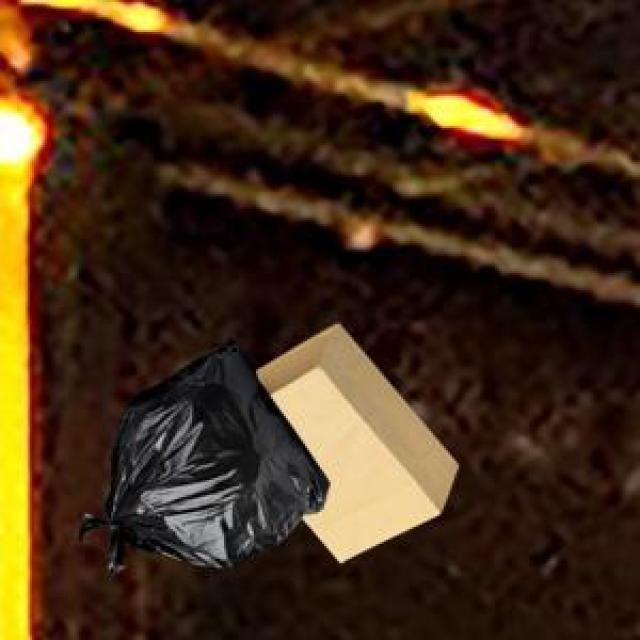miscellaneous trash: (75, 335, 324, 570)
paper: (252, 320, 454, 559)
